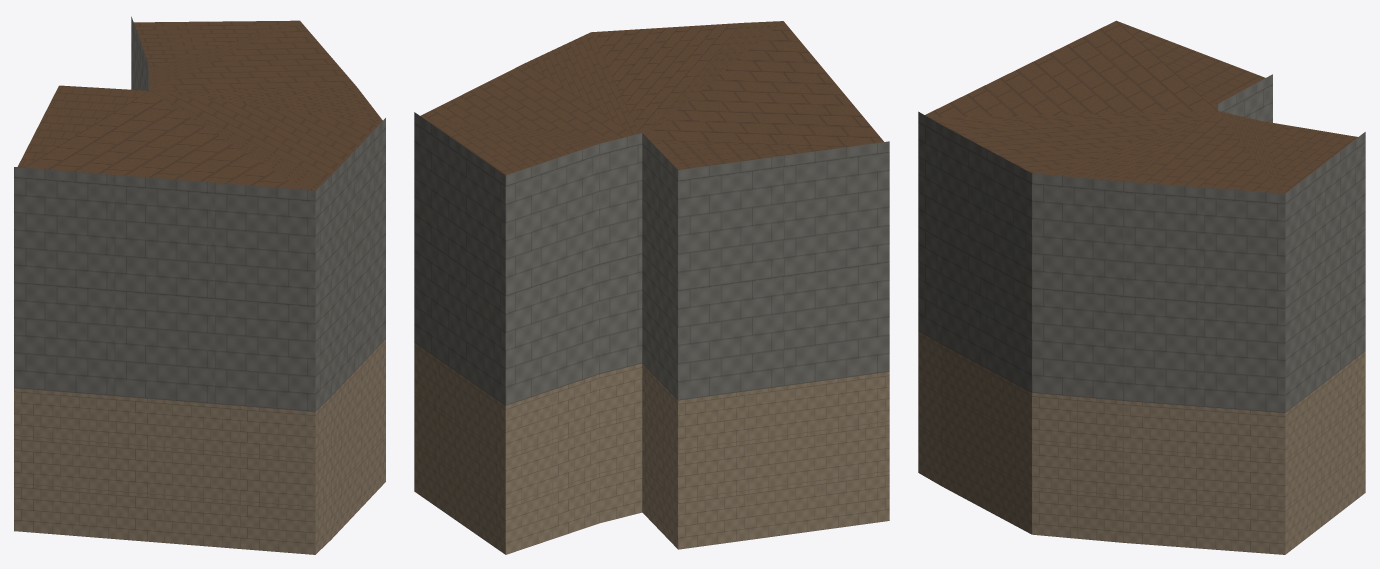
The model's file is bld_c25_-24_613.gltf.
3 views of the same model, side by side, from view 1: azimuth 30°, elevation 25°; view 2: azimuth 150°, elevation 25°; view 3: azimuth 270°, elevation 25° (orthographic). The views are drawn at different scales.
Parts seen in each view (by area): view 1: bld_c25_-24_613; view 2: bld_c25_-24_613; view 3: bld_c25_-24_613.
Part boxes in pixels (left/top/right/bottom): bld_c25_-24_613: left=14, top=16, right=385, bottom=554; bld_c25_-24_613: left=414, top=21, right=889, bottom=554; bld_c25_-24_613: left=918, top=20, right=1365, bottom=554.
Bounding box in the file's own units: 13.84 × 12.98 × 14.56.
Materials: 4 (4 with a texture image).
